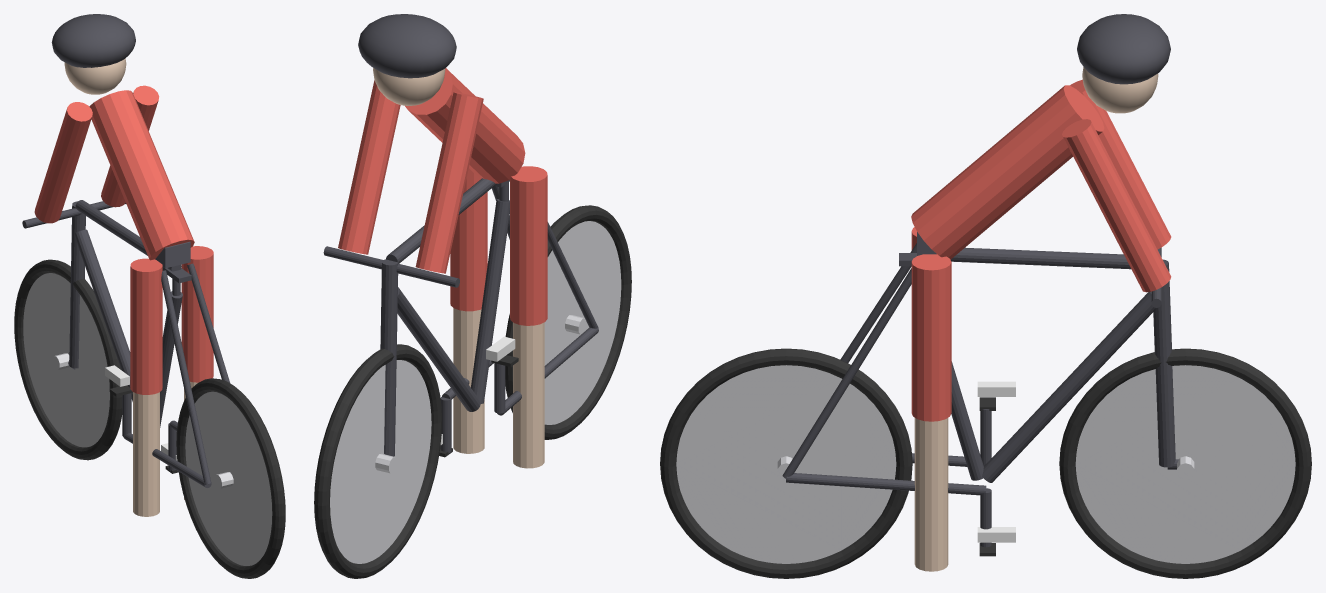
The model's file is rider.glb.
3 views of the same model, side by side, from view 1: azimuth 30°, elevation 25°; view 2: azimuth 150°, elevation 25°; view 3: azimuth 270°, elevation 25° (orthographic). The views are drawn at different scales.
Parts seen in each view (by area): view 1: RimR, RimF, Torso, TireR, TireF, ThighL, Helmet, ThighR, BodyArmL, ShinL, DownTube, SeatstayR (+11 smaller); view 2: RimF, RimR, TireF, ThighL, BodyArmL, BodyArmR, Helmet, Torso, ShinL, TireR, ThighR, ShinR (+11 smaller); view 3: RimF, RimR, Torso, TireF, TireR, ThighR, BodyArmR, ShinR, Helmet, DownTube, HeadTube, BodyArmL (+6 smaller).
Boxes of the visible parts, x1=… form: RimR: x1=185, y1=391, x2=272, y2=565; RimF: x1=23, y1=273, x2=109, y2=447; Torso: x1=89, y1=90, x2=194, y2=260; TireR: x1=176, y1=378, x2=285, y2=578; TireF: x1=14, y1=259, x2=122, y2=460; ThighL: x1=130, y1=258, x2=162, y2=394; Helmet: x1=51, y1=14, x2=135, y2=67; ThighR: x1=181, y1=246, x2=213, y2=382; BodyArmL: x1=34, y1=102, x2=92, y2=223; ShinL: x1=133, y1=392, x2=159, y2=516; DownTube: x1=74, y1=229, x2=132, y2=401; SeatstayR: x1=161, y1=270, x2=211, y2=484; RimF: x1=330, y1=360, x2=431, y2=563; RimR: x1=544, y1=221, x2=621, y2=424; TireF: x1=314, y1=344, x2=441, y2=578; ThighL: x1=510, y1=166, x2=547, y2=325; BodyArmL: x1=415, y1=92, x2=483, y2=273; BodyArmR: x1=338, y1=80, x2=400, y2=254; Helmet: x1=358, y1=14, x2=456, y2=78; Torso: x1=405, y1=68, x2=525, y2=183; ShinL: x1=513, y1=322, x2=544, y2=468; TireR: x1=505, y1=205, x2=631, y2=439; ThighR: x1=450, y1=168, x2=487, y2=311; ShinR: x1=453, y1=308, x2=484, y2=453; RimF: x1=1075, y1=365, x2=1295, y2=563; RimR: x1=676, y1=365, x2=896, y2=563; Torso: x1=911, y1=85, x2=1104, y2=259; TireF: x1=1059, y1=348, x2=1311, y2=578; TireR: x1=660, y1=348, x2=912, y2=578; ThighR: x1=911, y1=254, x2=951, y2=421; BodyArmR: x1=1062, y1=119, x2=1171, y2=292; ShinR: x1=914, y1=418, x2=948, y2=571; Helmet: x1=1077, y1=14, x2=1170, y2=84; DownTube: x1=982, y1=291, x2=1155, y2=482; HeadTube: x1=1153, y1=259, x2=1175, y2=467; BodyArmL: x1=1070, y1=79, x2=1171, y2=249.
Bounding box in the file's own units: 0.44 × 1.69 × 1.8.
